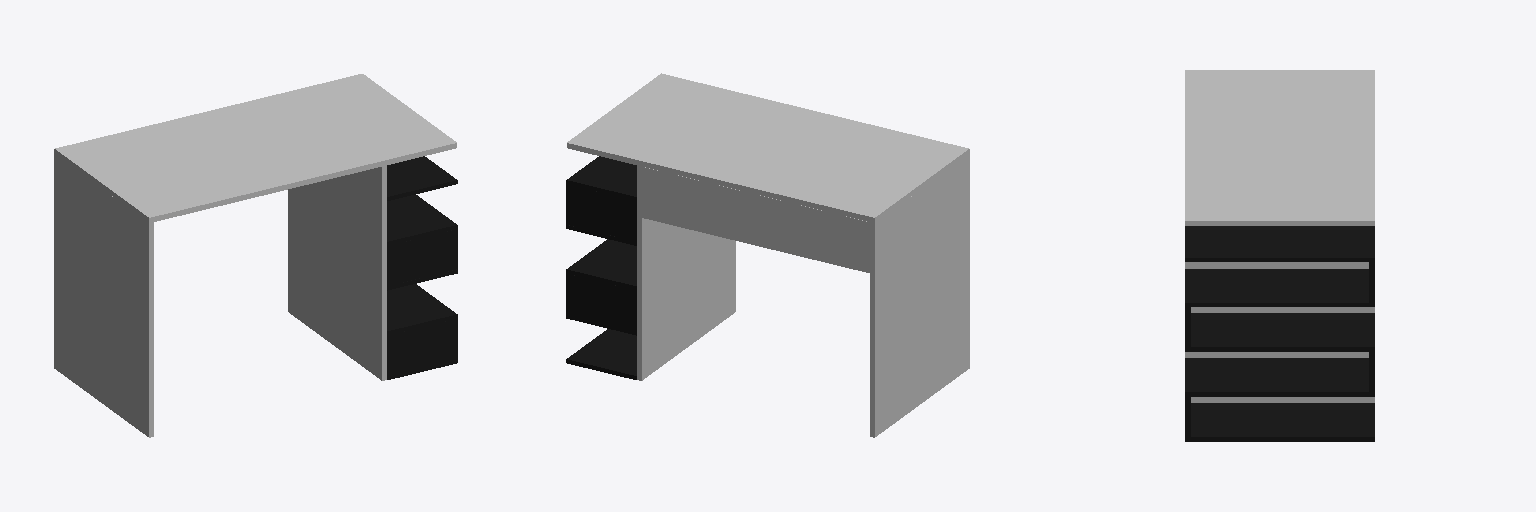
Rendered from Детройт.obj.
The picture shows the model from 3 angles: view 1: azimuth 30°, elevation 25°; view 2: azimuth 150°, elevation 25°; view 3: azimuth 270°, elevation 25°; orthographic projection.
Parts seen in each view (by area): view 1: Cube.002_Cube.003, Cube.011_Cube.012; view 2: Cube.002_Cube.003, Cube.011_Cube.012; view 3: Cube.011_Cube.012, Cube.002_Cube.003.
Boxes of the visible parts, box(x1,y1,x2,y2) form: Cube.002_Cube.003: box(54, 74, 456, 437); Cube.011_Cube.012: box(387, 156, 457, 379); Cube.002_Cube.003: box(567, 73, 969, 437); Cube.011_Cube.012: box(566, 156, 636, 379); Cube.011_Cube.012: box(1185, 226, 1374, 441); Cube.002_Cube.003: box(1185, 70, 1374, 402).
Size of the model in its own units: 2.26 by 1.54 by 1.2.